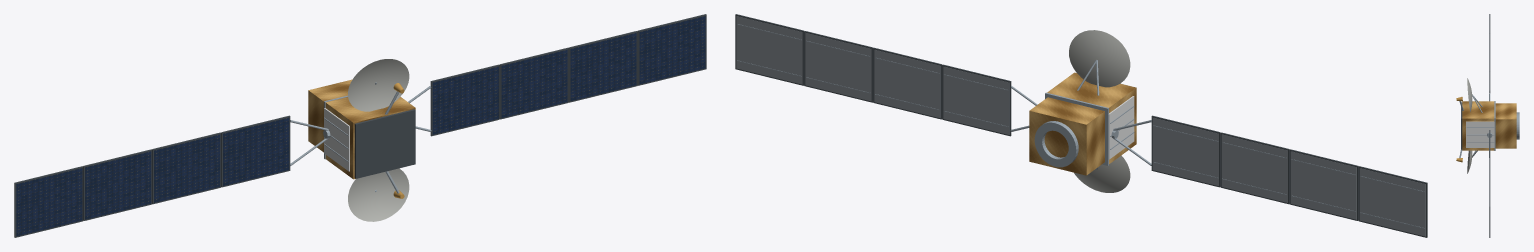
The model's file is as7000-television.glb.
3 views of the same model, side by side, from view 1: azimuth 30°, elevation 25°; view 2: azimuth 150°, elevation 25°; view 3: azimuth 270°, elevation 25° (orthographic). The views are drawn at different scales.
Visible parts, largest first — view 1: Solar cell panel (×8), Communications reflector (×2), Solar panel frame (×8), Earth-facing deck, Payload module, Service module, Radiator face; view 2: Rear array substrate (×8), Solar panel frame (×8), Service module, Communications reflector (×2), Payload module, Launch adapter ring, Radiator face, Module interface; view 3: Service module, Payload module, Radiator face, Communications reflector (×2), Launch adapter ring, Solar panel frame, Module interface, Earth-facing deck.
Part boxes in pixels (box(x1,y1,x2,y2)): Solar cell panel (×8): box(16, 16, 705, 236); Communications reflector (×2): box(348, 59, 409, 221); Solar panel frame (×8): box(14, 14, 706, 237); Earth-facing deck: box(354, 109, 415, 178); Payload module: box(325, 97, 415, 179); Service module: box(308, 79, 352, 152); Radiator face: box(324, 108, 349, 171); Rear array substrate (×8): box(736, 16, 1425, 236); Solar panel frame (×8): box(735, 14, 1427, 237); Service module: box(1029, 97, 1104, 175); Communications reflector (×2): box(1069, 30, 1130, 192); Payload module: box(1047, 72, 1136, 163); Launch adapter ring: box(1034, 121, 1078, 167); Radiator face: box(1108, 96, 1134, 159); Module interface: box(1045, 92, 1108, 165); Service module: box(1495, 103, 1516, 148); Payload module: box(1462, 101, 1494, 150); Radiator face: box(1466, 121, 1494, 147); Communications reflector (×2): box(1467, 78, 1472, 173); Launch adapter ring: box(1516, 112, 1519, 139); Solar panel frame: box(1489, 187, 1490, 237); Module interface: box(1494, 101, 1495, 150); Earth-facing deck: box(1461, 102, 1462, 149).
Size of the model in its own units: 24.48 by 5.45 by 3.39.
8 materials, 2 textured.
